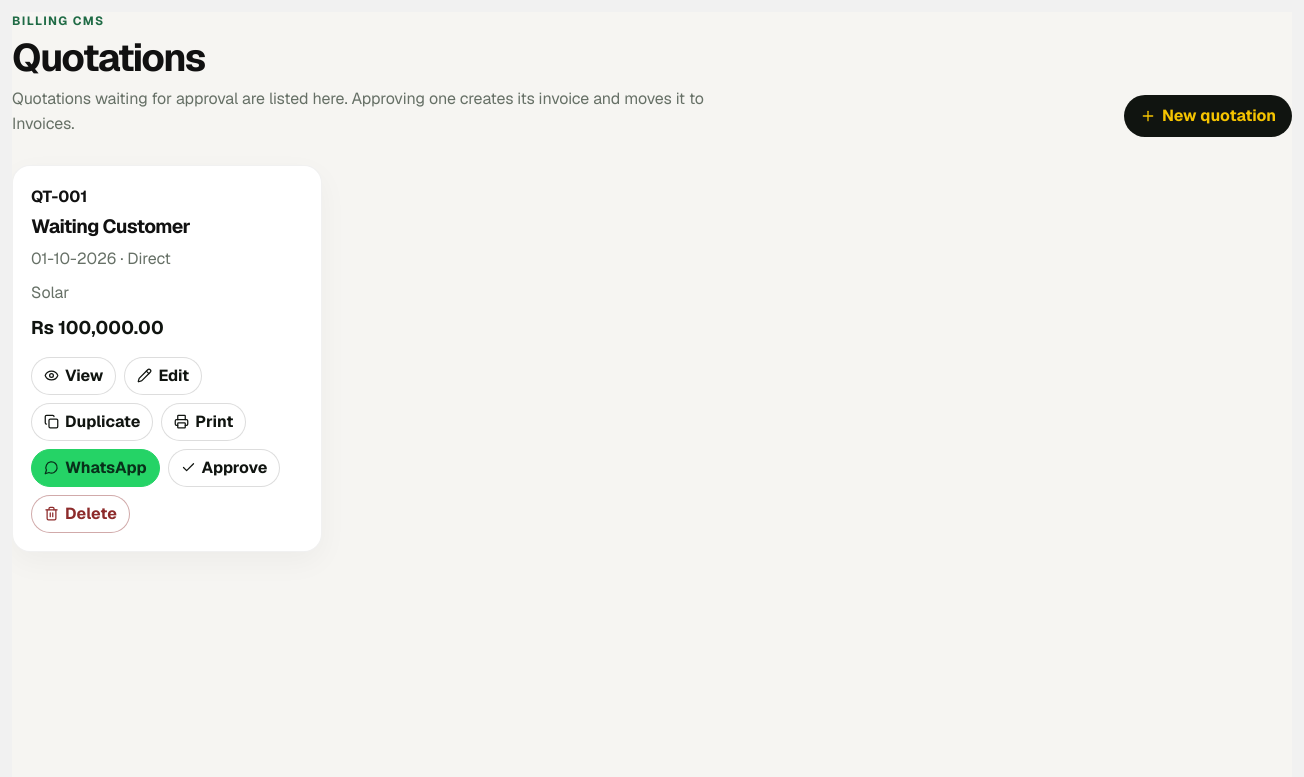
duplicating a quotation opens a copy form with the customer details
Click the button "Duplicate": x=92, y=422 x1=31 y1=403 x2=153 y2=441
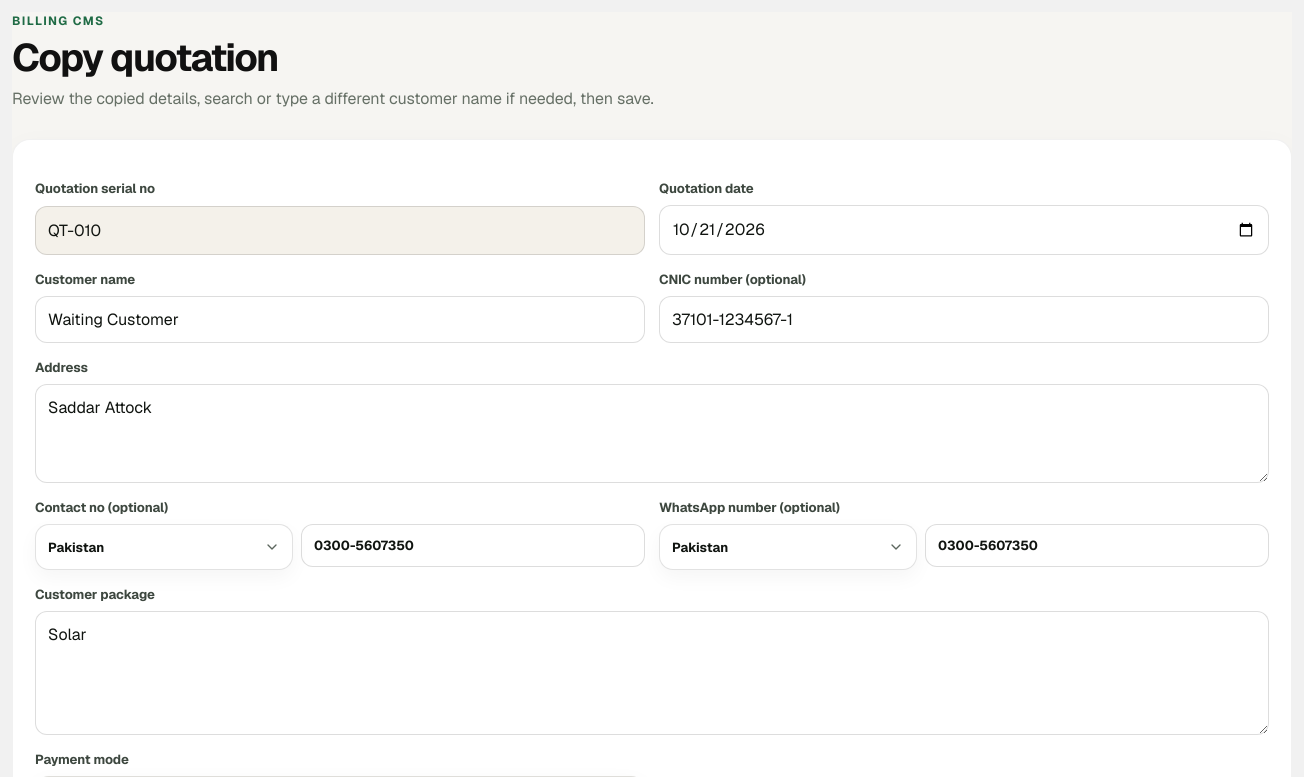
Check: the heading "Copy quotation" is shown, box x1=12 y1=32 x2=278 y2=82
Check: the field labelled "Customer name" holds "Waiting Customer", box x1=35 y1=296 x2=645 y2=343
Check: the text box labelled "Address" holds "Saddar Attock", box x1=35 y1=384 x2=1269 y2=483
